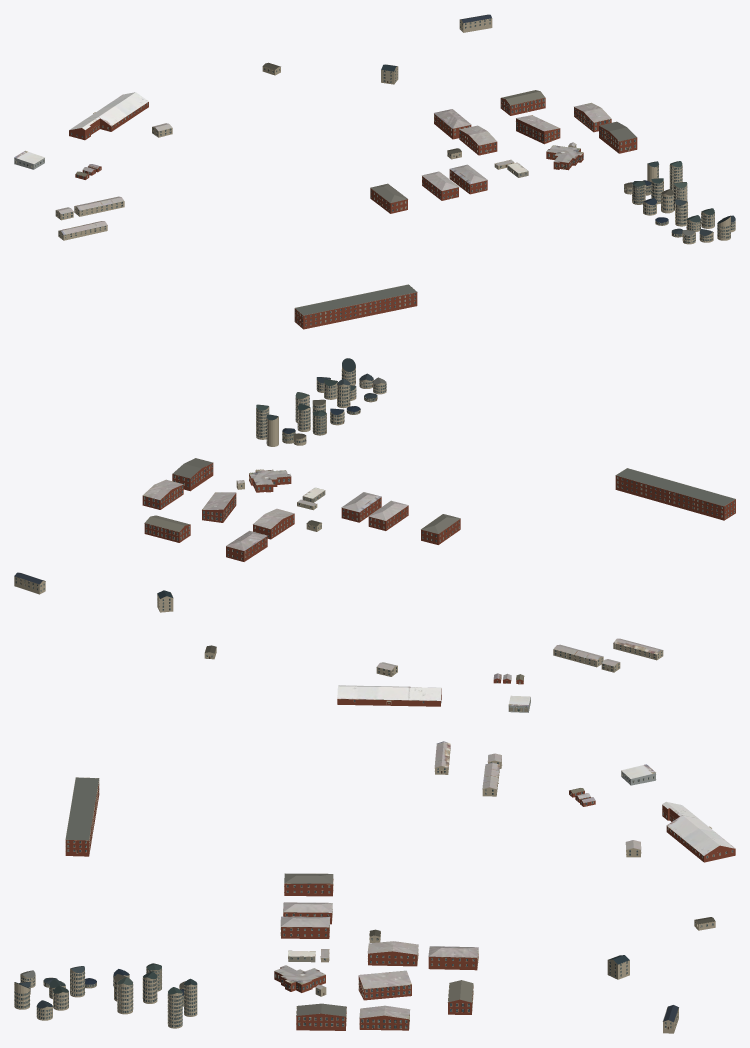
3 renders of one model, top to bottom at view 1: azimuth 30°, elevation 25°; view 2: azimuth 150°, elevation 25°; view 3: azimuth 270°, elevation 25°, orthographic. The views are drawn at different scales.
Visible parts, largest first — view 1: -6_0_271662479_0, -6_0_271825566_5, -6_0_271924509_27; view 2: -6_0_271662479_0, -6_0_271825566_5, -6_0_271924509_27; view 3: -6_0_271662479_0, -6_0_271825566_5, -6_0_271924509_27.
Boxes of the visible parts, x1,y1,x2,y2 form: -6_0_271662479_0: [14, 16, 735, 329]; -6_0_271825566_5: [76, 14, 735, 315]; -6_0_271924509_27: [55, 18, 735, 244]; -6_0_271662479_0: [15, 358, 735, 711]; -6_0_271825566_5: [14, 358, 735, 680]; -6_0_271924509_27: [14, 366, 663, 676]; -6_0_271662479_0: [14, 741, 735, 1030]; -6_0_271825566_5: [15, 777, 715, 1022]; -6_0_271924509_27: [14, 756, 715, 1033].
Bounding box in the file's own units: 520 × 38.03 × 529.
Materials: 16 (1 with a texture image).
